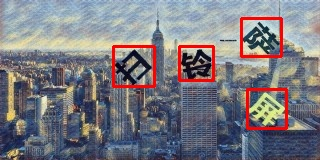

Layout of this report page (visuals, bound fields, positions):
{"tool":"powerbi","page":{"name":"第 1 页","canvas":[1280,720],"ordinal":0},"visuals":[{"type":"colorMapEB4BA673A8872296B0669A67E5D2ACC5","title":"XX公司用户全国分布图","fields":{"position":["SheetJS.省"],"color":["Sum(SheetJS.人数)"]},"box":[0,0,1280.4,719.6],"z":0}]}

Visuals, with their boxes on the page's 1280x720 design canvas (x1, y1, x2, y2). These are canvas units, not pixel positions in the 320x160 screenshot, which may show the page scaled, cropped or inside an application window:
"XX公司用户全国分布图" colorMapEB4BA673A8872296B0669A67E5D2ACC5: x1=0, y1=0, x2=1280, y2=720
